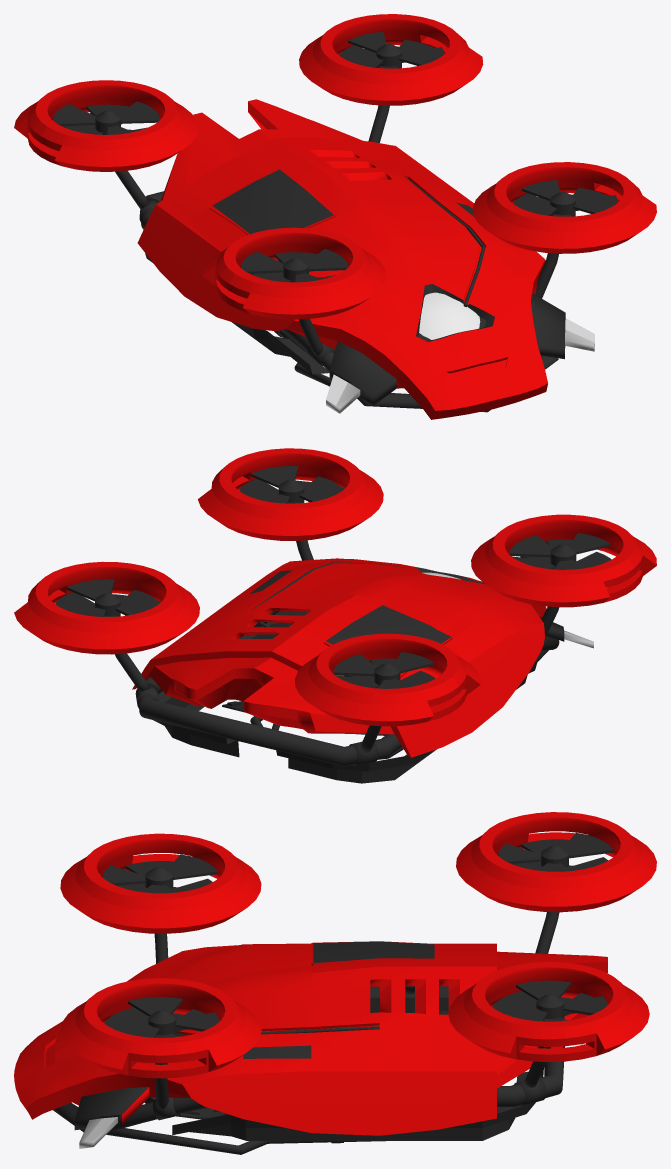
The picture shows the model from 3 angles, top to bottom: view 1: azimuth 30°, elevation 25°; view 2: azimuth 150°, elevation 25°; view 3: azimuth 270°, elevation 25°; orthographic projection. The views are drawn at different scales.
Visible parts, largest first — view 1: ironman, heliceGUARD2, rig1, h2FR, h2BR, h2FL, h2BL; view 2: heliceGUARD2, ironman, rig1, h2FR, h2BR, h2FL, h2BL; view 3: ironman, heliceGUARD2, rig1, h2BL, h2FL, h2BR, h2FR.
Part boxes in pixels (x1,y1,x2,y2): ironman: (137,99,594,419); heliceGUARD2: (14,14,656,319); rig1: (115,105,558,412); h2FR: (241,249,348,282); h2BR: (53,101,160,134); h2FL: (513,180,617,216); h2BL: (339,32,444,68); heliceGUARD2: (14,448,656,726); ironman: (132,558,593,757); rig1: (115,540,559,783); h2FR: (509,533,611,569); h2BR: (333,652,435,688); h2FL: (239,466,345,503); h2BL: (55,579,161,616); ironman: (14,941,607,1148); heliceGUARD2: (60,812,656,1078); rig1: (53,912,564,1154); h2BL: (492,980,607,1044); h2FL: (104,997,219,1060); h2BR: (498,832,613,871); h2FR: (102,854,217,893).
Bounding box in the file's own units: 918 × 349 × 1097.
